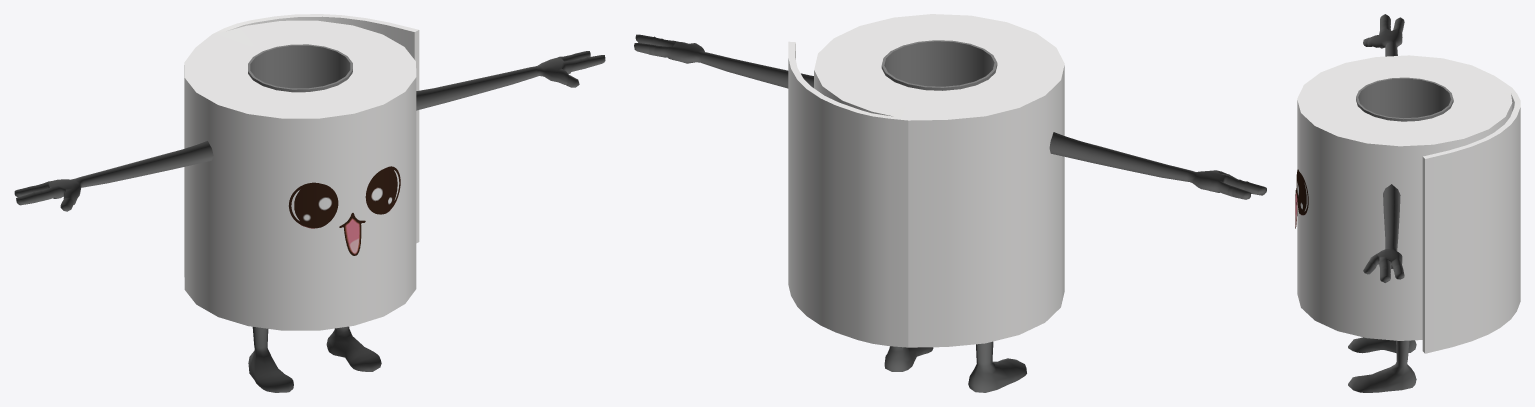
The model's file is paper-cut.fbx.
3 renders of one model, left to right at view 1: azimuth 30°, elevation 25°; view 2: azimuth 150°, elevation 25°; view 3: azimuth 270°, elevation 25°, orthographic. The views are drawn at different scales.
Parts seen in each view (by area): view 1: 对象001, 对象002, polySurface15, polySurface17; view 2: 对象001, 对象002, polySurface15; view 3: 对象001, polySurface15, 对象002, polySurface17.
Boxes of the visible parts, bbox=[...] form: 对象001: bbox=[192, 14, 419, 323]; 对象002: bbox=[184, 52, 361, 330]; polySurface15: bbox=[14, 51, 605, 392]; polySurface17: bbox=[288, 166, 400, 255]; 对象001: bbox=[788, 14, 1056, 342]; 对象002: bbox=[867, 48, 1064, 347]; polySurface15: bbox=[634, 34, 1266, 392]; 对象001: bbox=[1297, 72, 1520, 353]; polySurface15: bbox=[1348, 14, 1416, 392]; 对象002: bbox=[1297, 55, 1486, 295]; polySurface17: bbox=[1295, 169, 1308, 228].
Bounding box in the file's own units: 50.56 × 24.05 × 18.24.
